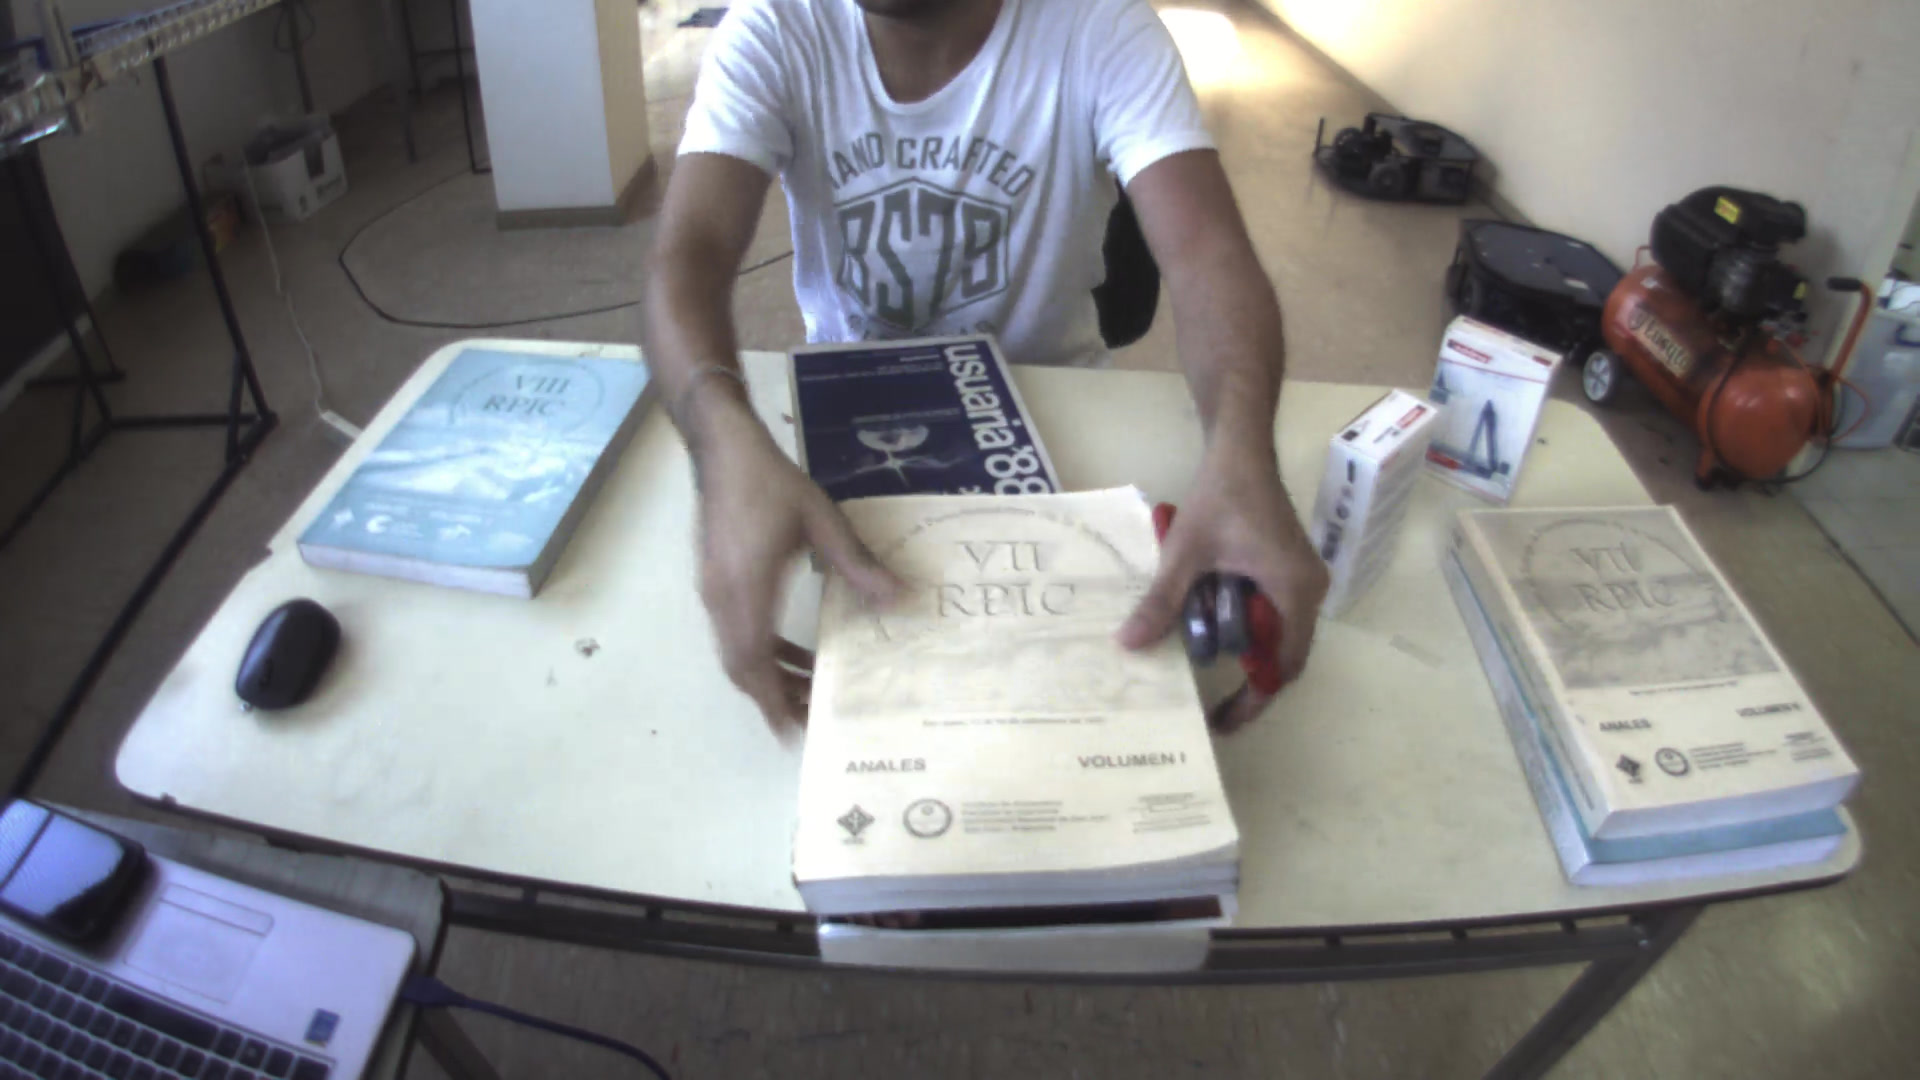hand: (696, 443, 911, 756), (1127, 465, 1333, 754)
